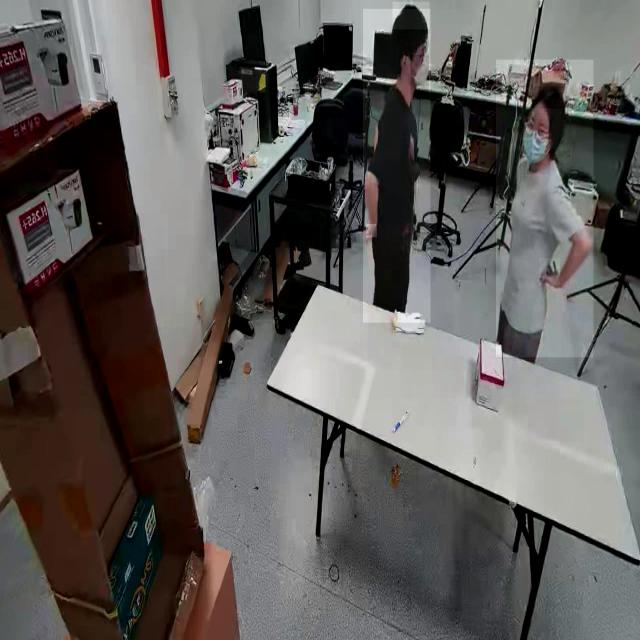face_mask: (520, 119, 550, 174), (410, 55, 429, 101)
hand_noglove: (538, 258, 560, 286), (366, 224, 377, 238)
head_nohelmet: (392, 2, 430, 30), (532, 86, 568, 110)
person: (496, 60, 594, 358), (362, 9, 430, 323)
